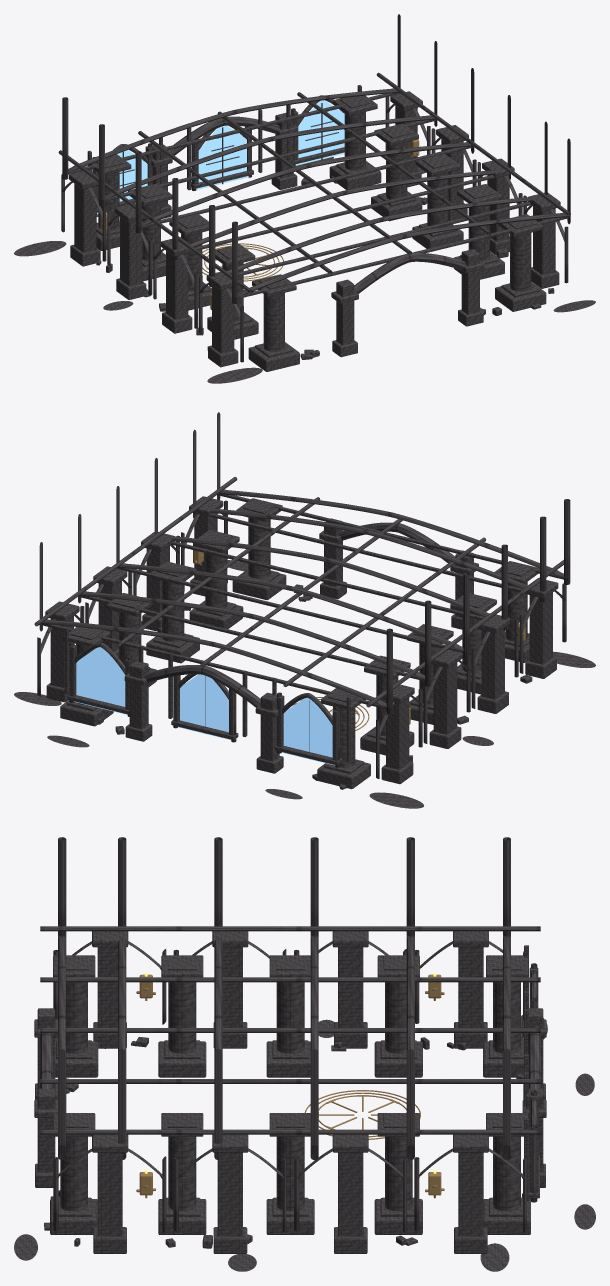
File: cathedral_ground_slice.glb
3 views of the same model, one above another, from view 1: azimuth 30°, elevation 25°; view 2: azimuth 150°, elevation 25°; view 3: azimuth 270°, elevation 25° (orthographic). The views are drawn at different scales.
Parts seen in each view (by area): view 1: Cathedral batch | Cathedral carved limestone | PBR, Cathedral batch | Cathedral stone | cold blue-grey PBR, Cathedral batch | Moonlit leaded glass, Cathedral batch | Wet floor stone | PBR, Cathedral batch | Aged brass | lantern details; view 2: Cathedral batch | Cathedral carved limestone | PBR, Cathedral batch | Cathedral stone | cold blue-grey PBR, Cathedral batch | Moonlit leaded glass, Cathedral batch | Wet floor stone | PBR; view 3: Cathedral batch | Cathedral carved limestone | PBR, Cathedral batch | Cathedral stone | cold blue-grey PBR, Cathedral batch | Wet floor stone | PBR, Cathedral batch | Aged brass | lantern details.
Boxes of the visible parts, x1,y1,x2,y2 form: Cathedral batch | Cathedral carved limestone | PBR: (58, 14, 570, 367); Cathedral batch | Cathedral stone | cold blue-grey PBR: (68, 85, 568, 371); Cathedral batch | Moonlit leaded glass: (97, 100, 344, 214); Cathedral batch | Wet floor stone | PBR: (14, 157, 595, 383); Cathedral batch | Aged brass | lantern details: (100, 139, 419, 309); Cathedral batch | Cathedral carved limestone | PBR: (34, 412, 570, 788); Cathedral batch | Cathedral stone | cold blue-grey PBR: (41, 494, 563, 789); Cathedral batch | Moonlit leaded glass: (74, 647, 335, 765); Cathedral batch | Wet floor stone | PBR: (14, 560, 595, 808); Cathedral batch | Cathedral carved limestone | PBR: (34, 837, 546, 1253); Cathedral batch | Cathedral stone | cold blue-grey PBR: (37, 945, 543, 1248); Cathedral batch | Wet floor stone | PBR: (14, 1015, 595, 1271); Cathedral batch | Aged brass | lantern details: (136, 974, 444, 1198).
Bounding box in the file's own units: 51 × 18.75 × 48.4.
6 materials, 3 textured.
